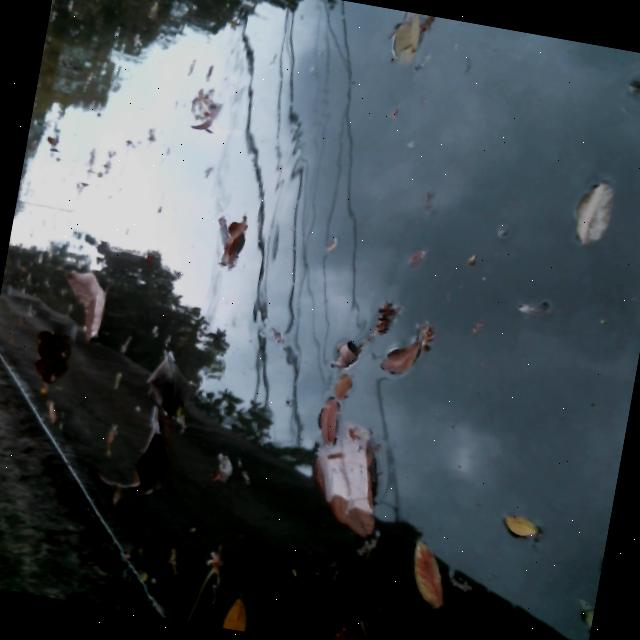Big-leaf: (295, 422, 393, 538), (90, 397, 180, 501), (50, 262, 119, 345), (137, 343, 189, 423), (379, 7, 428, 68), (23, 331, 66, 390)
Small-leaf: (392, 533, 471, 615), (178, 543, 228, 626), (567, 174, 618, 252), (205, 208, 254, 272), (184, 85, 228, 148), (492, 504, 552, 547), (377, 333, 430, 381), (326, 329, 376, 376), (324, 605, 384, 640), (212, 593, 260, 633), (309, 394, 345, 446), (206, 450, 248, 486), (370, 293, 400, 343), (36, 116, 69, 160), (518, 292, 557, 321), (398, 242, 433, 274), (328, 370, 354, 399)
